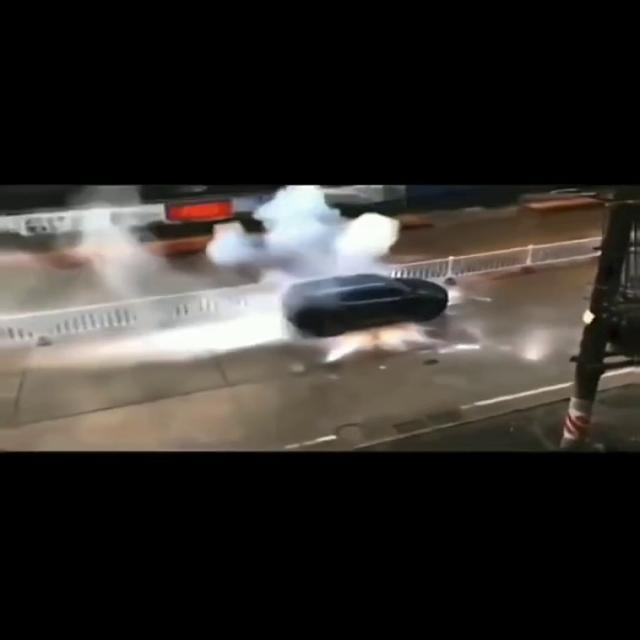Smoke: (1, 190, 434, 365)
